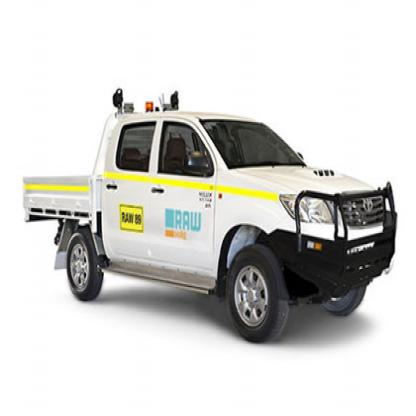light_vehicle: (19, 86, 397, 349)
